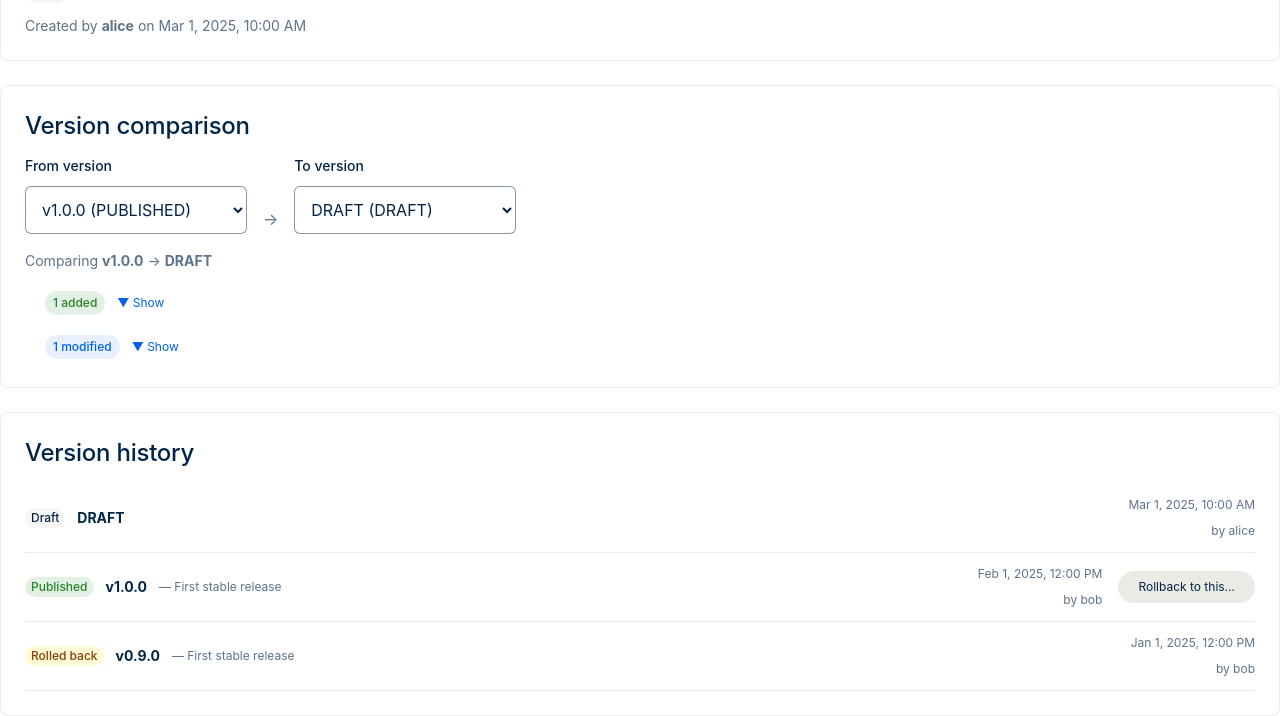
Test case: ReleaseDashboardPage – rollback dialog › opens rollback dialog when "Rollback to this…" is clicked
(page scrolled)
Click the button with aria-label "rollback to version v1.0.0".
click(1187, 587)  # box [1118, 571, 1255, 603]
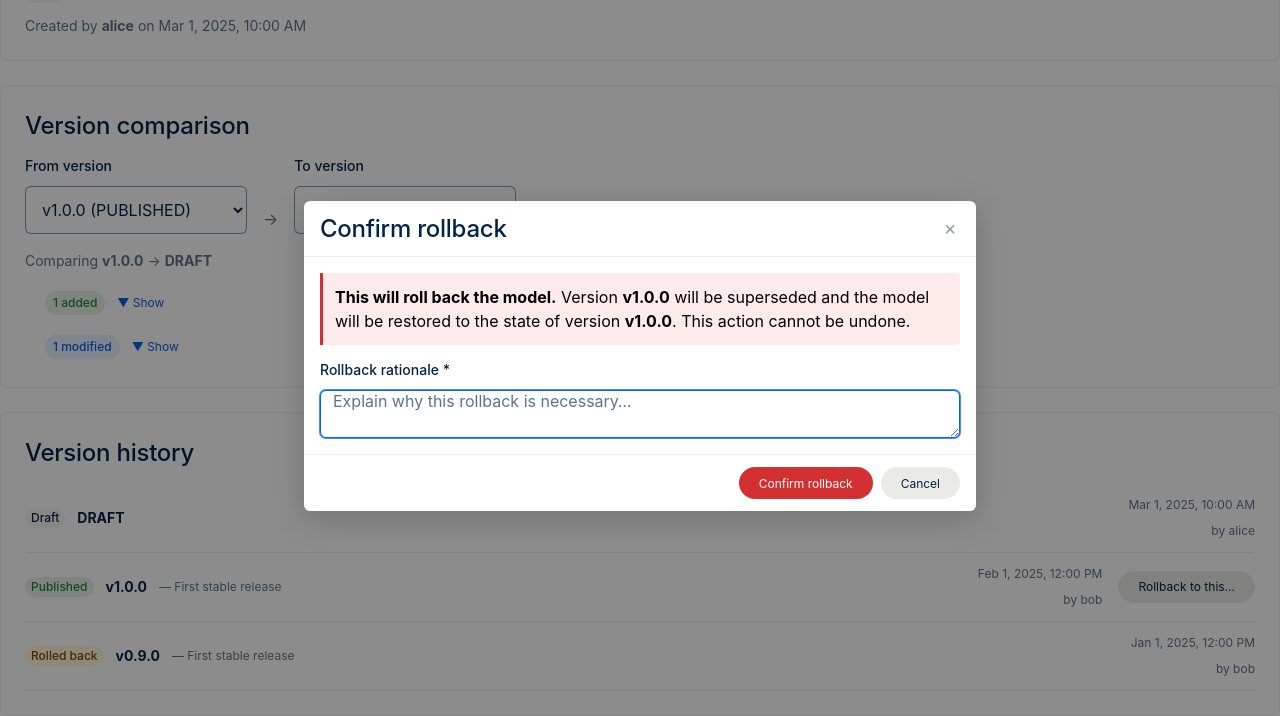
Expected: the heading "Confirm rollback" is shown, [320, 213, 507, 244]
